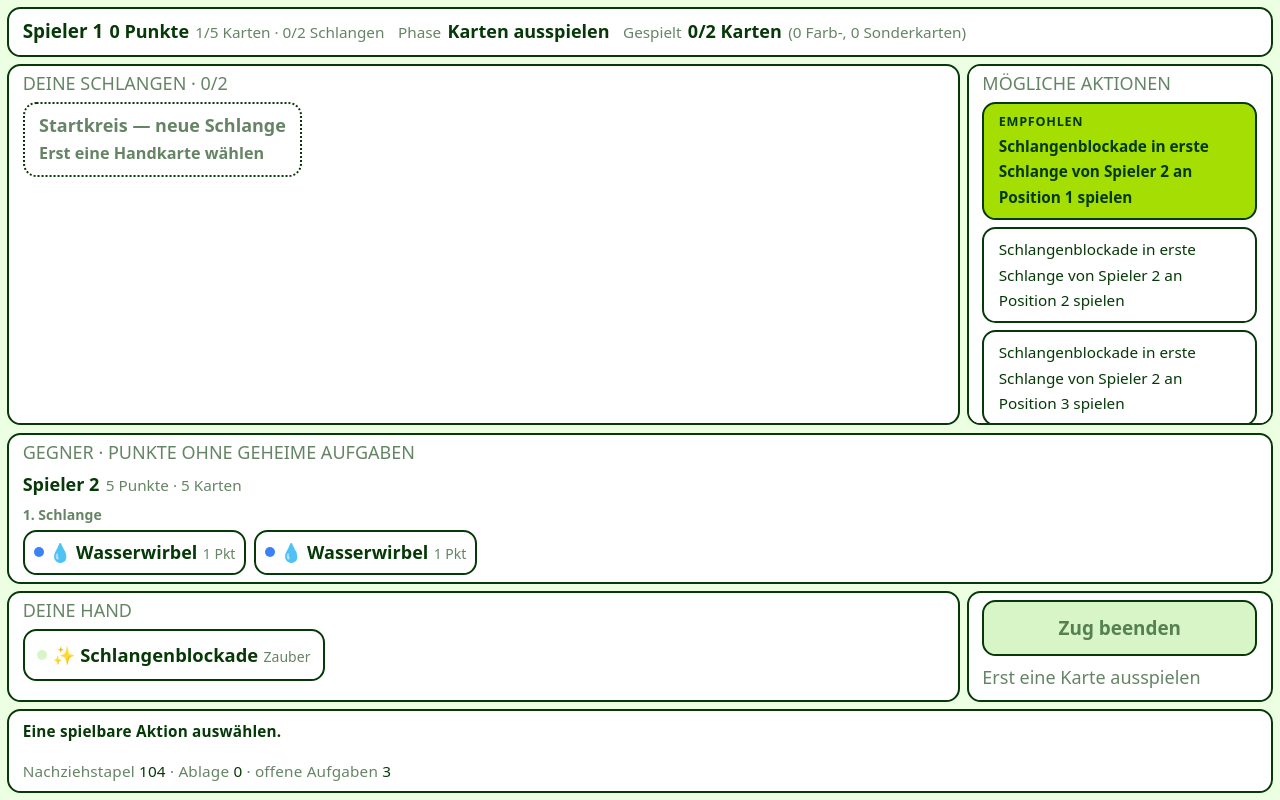
Test: Sonderkarten über Brettziele › blockiert eine gegnerische Schlange durch Klick auf einen Einfügeplatz
The width and height of the screenshot is (1280, 800).
Click the button "✨ Schlangenblockade Zauber". click: click(174, 655)
box: [23,629,325,681]
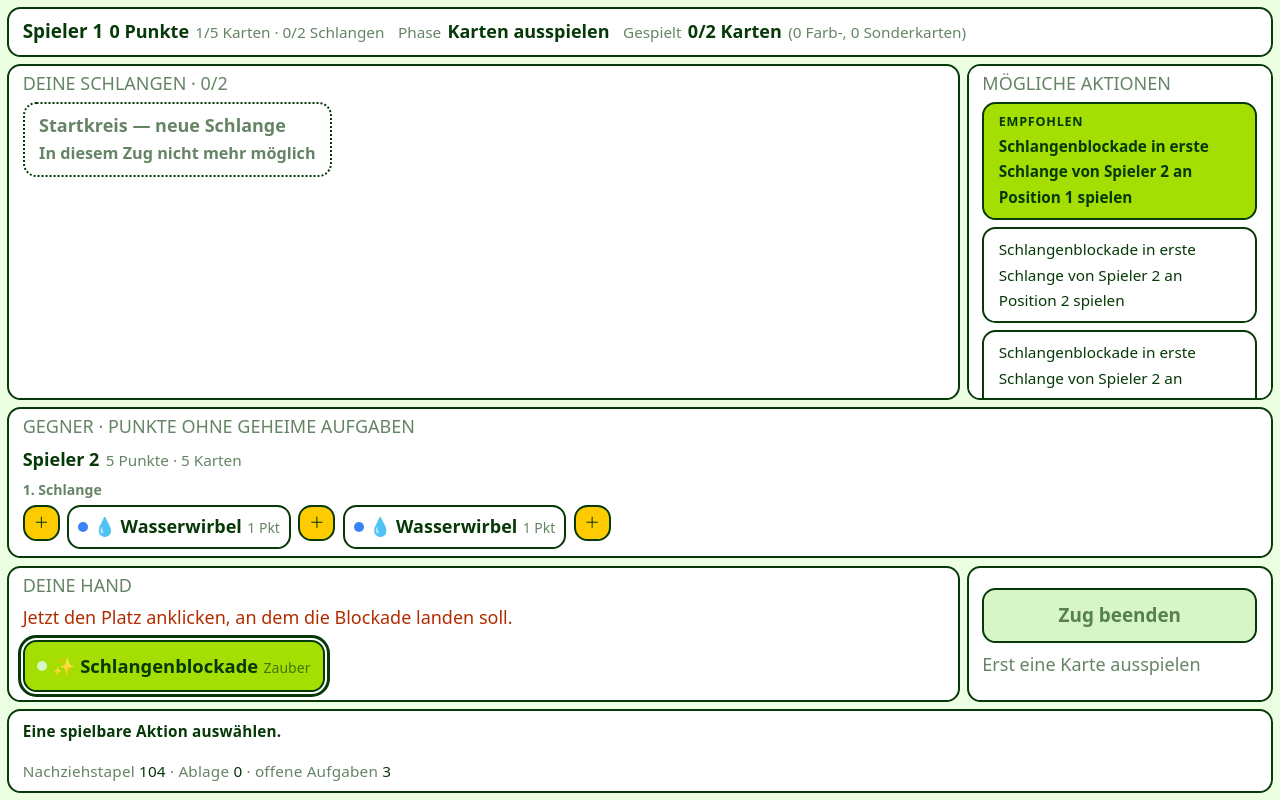
Result: the number of buttons named "Blockade" is 3
Click the button named "Blockade". click: click(317, 523)
box: [298,505,335,541]
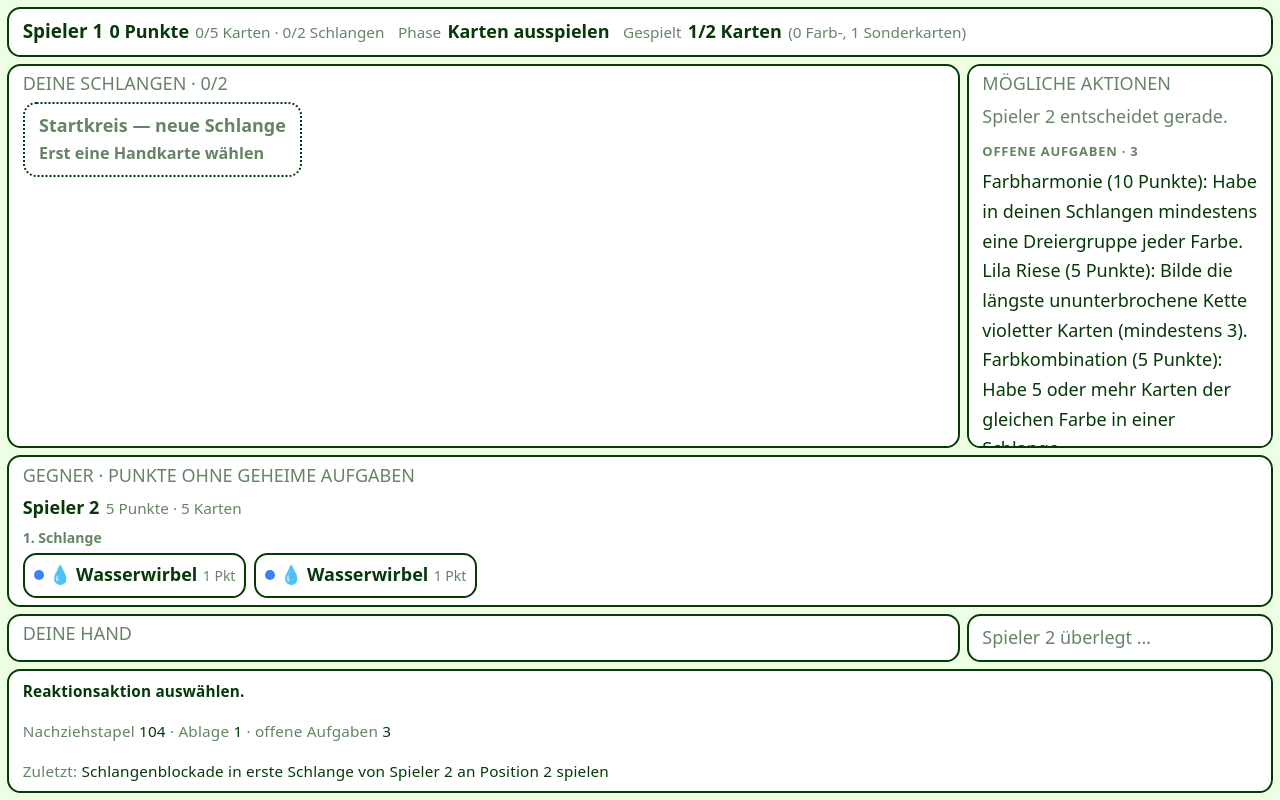
Result: the element named "Spielverlauf" shows "Schlangenblockade" at [81,760,609,780]
